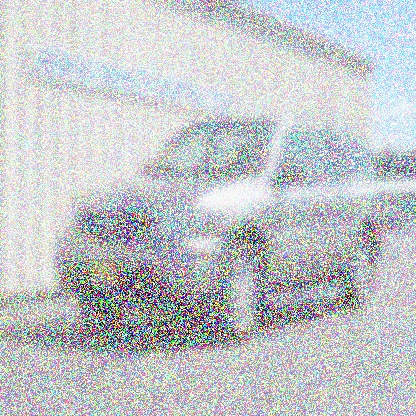Vehicle: (55, 115, 386, 342)
